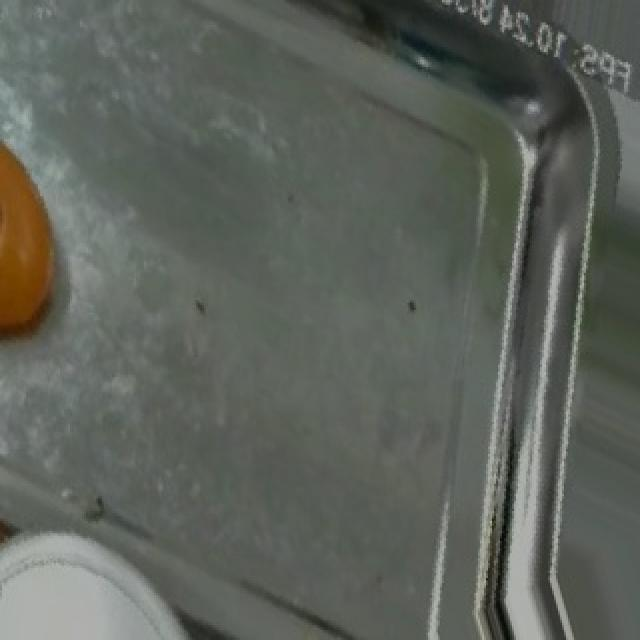Fruit: (0, 116, 92, 370), (0, 543, 178, 640)
